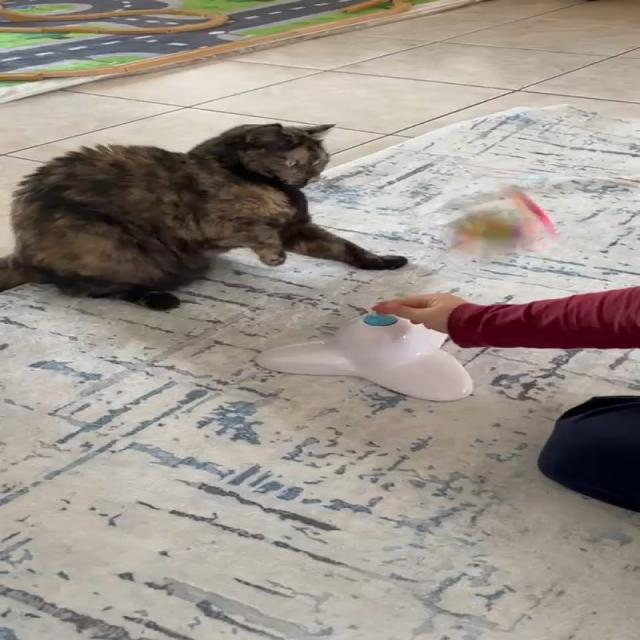authorized: (0, 121, 408, 310)
